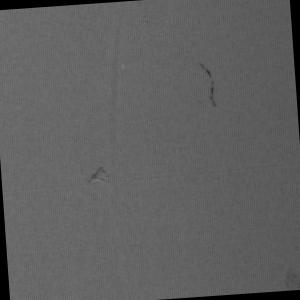Stain: (190, 56, 237, 123), (280, 264, 300, 292)
Wrinkle: (97, 11, 139, 165)
